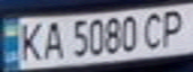0: (118, 12, 142, 53), (87, 16, 106, 56)
5: (66, 17, 90, 59)
8: (103, 15, 124, 55)
A: (39, 18, 66, 61)
C: (139, 9, 169, 51)
K: (15, 19, 45, 63)
P: (157, 7, 193, 47)
